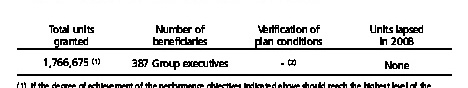table: (0, 0, 468, 88)
